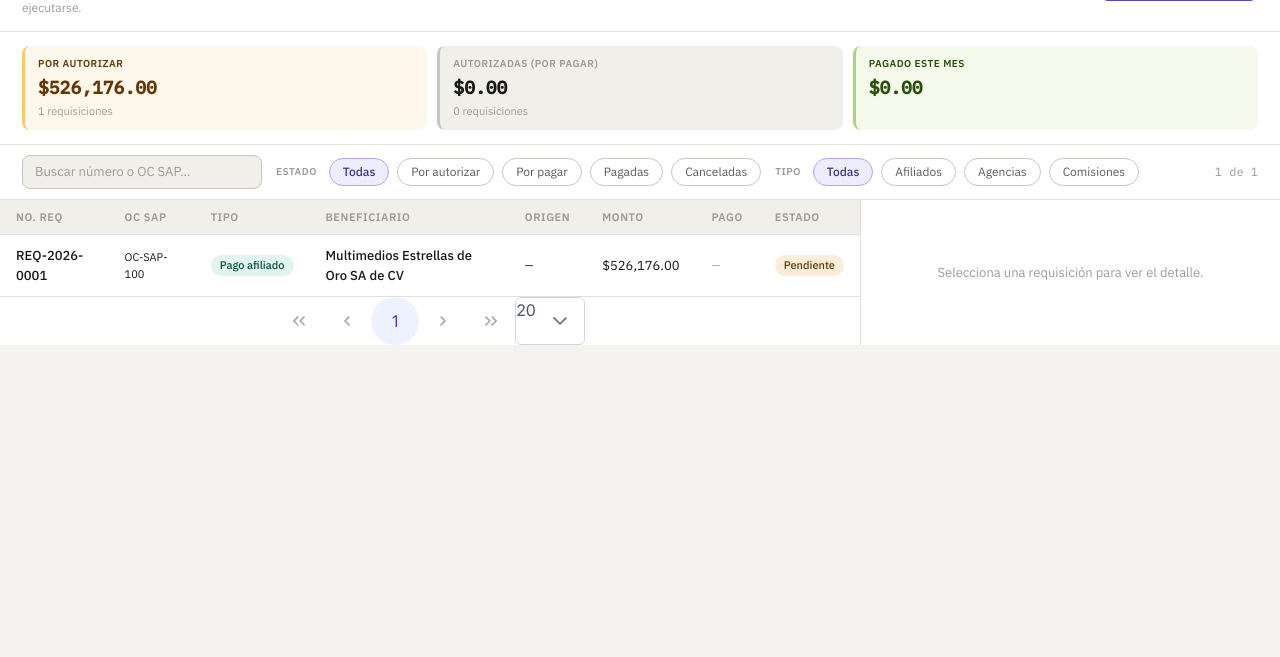
RequisicionesPage › en 'pendiente' ofrece cancelar y autorizar, pero NO marcar pagada
Click the text "REQ-2026-0001". click: (54, 266)
box: [0,234,109,296]
(page scrolled)
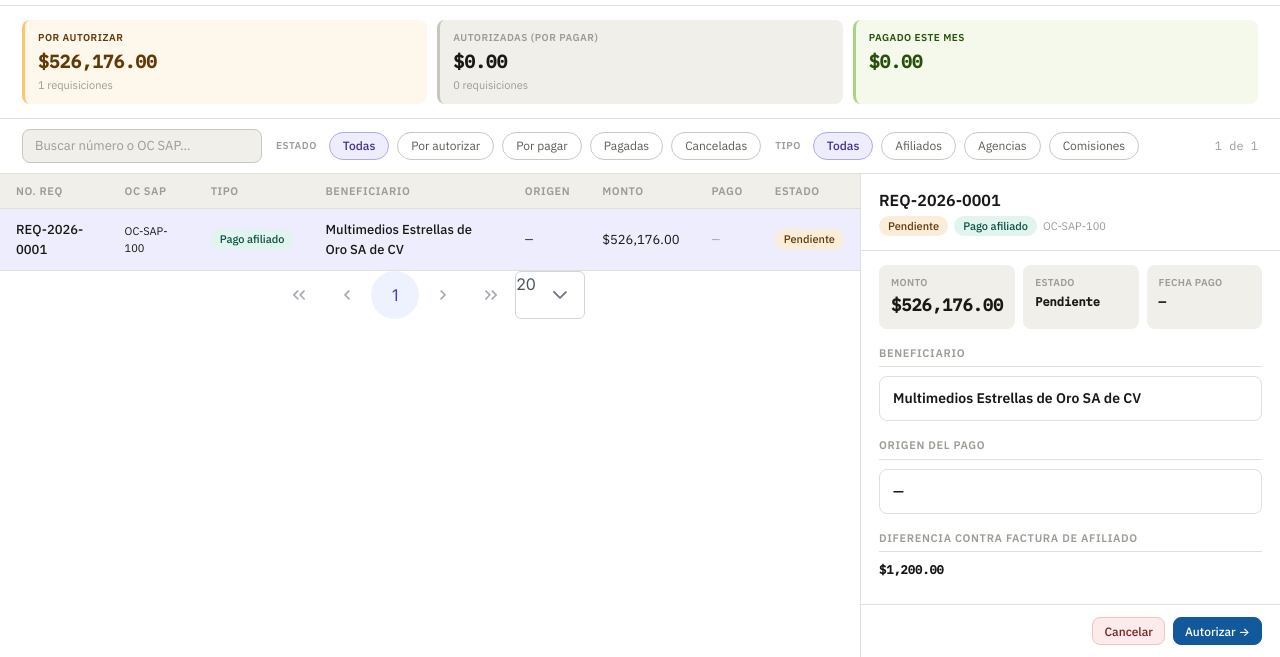
expect the button "Autorizar →" is shown: met, box [1173,617,1262,645]
expect the button "Cancelar" is shown: met, box [1092,617,1165,645]
